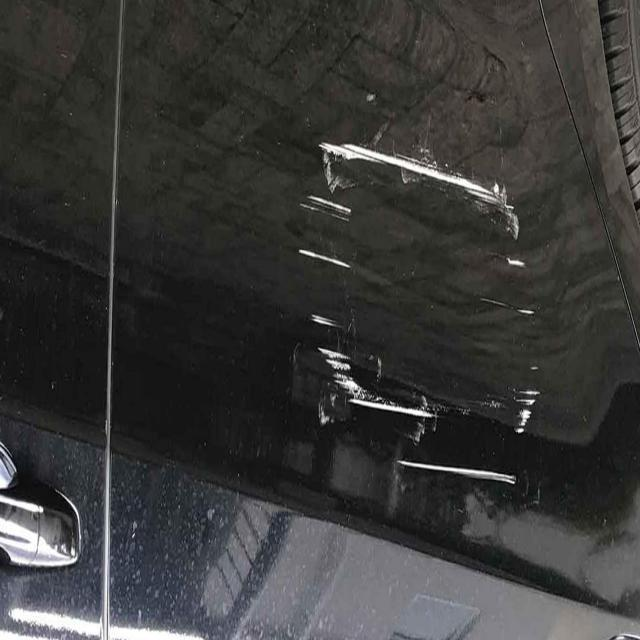scratch: (287, 112, 542, 295), (301, 310, 446, 428), (389, 448, 540, 490), (511, 370, 548, 453)
